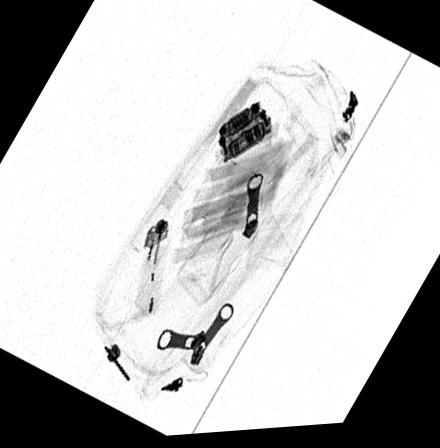Lighter: (133, 219, 173, 325)
